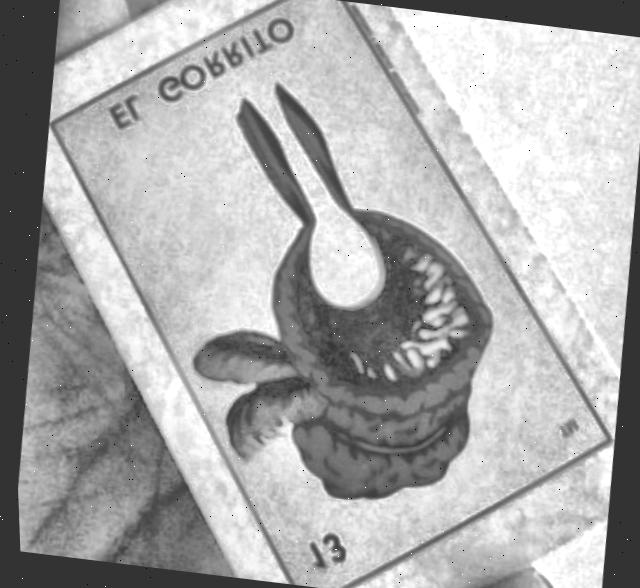El Gorrito: (60, 0, 606, 588)
